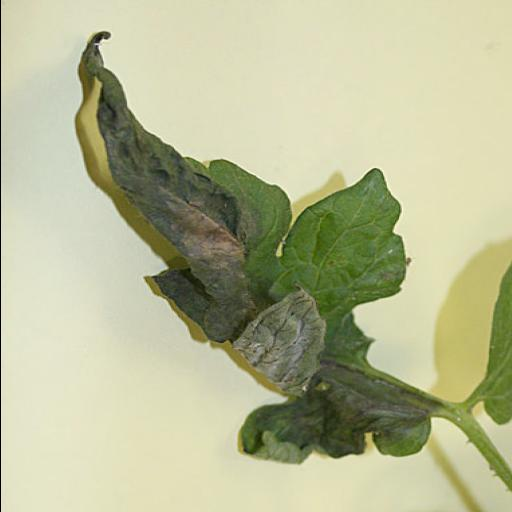Late Blight: (62, 30, 444, 472)
